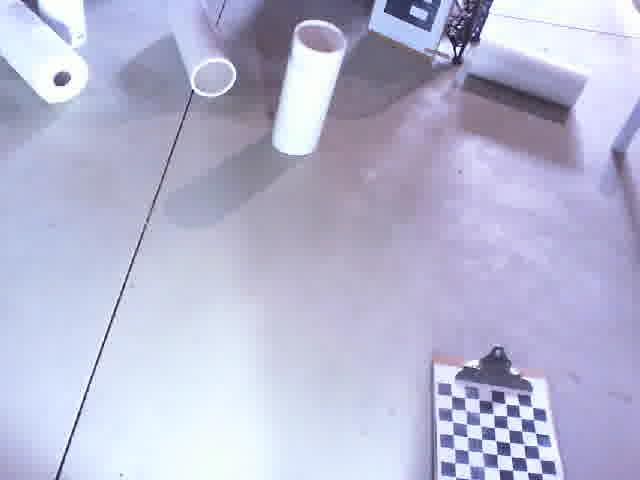coral: (265, 12, 352, 167), (457, 36, 600, 115), (154, 0, 247, 104), (28, 0, 97, 52)
